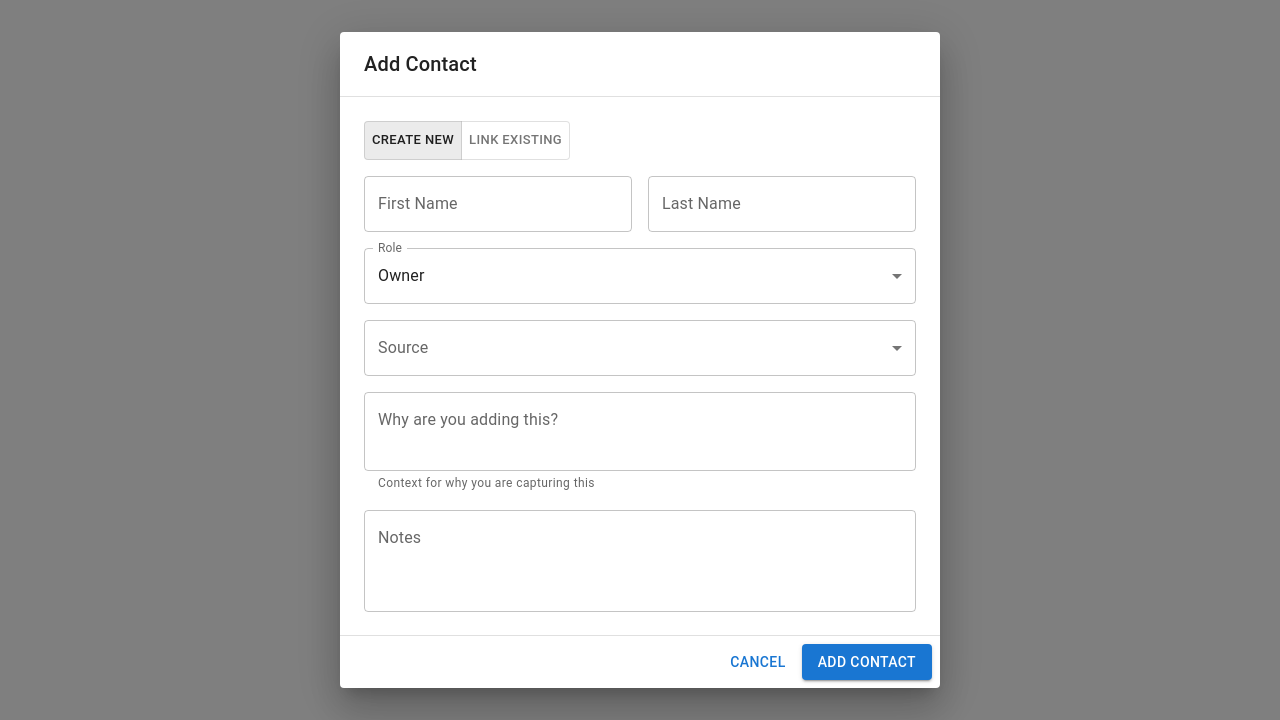
Test: ContactFormModal › API error handling › surfaces a createContact error via Snackbar Alert
Type "ErrorTest" into the field labelled "First Name" at (498, 204), box top-left (364, 176), bottom-right (632, 232)
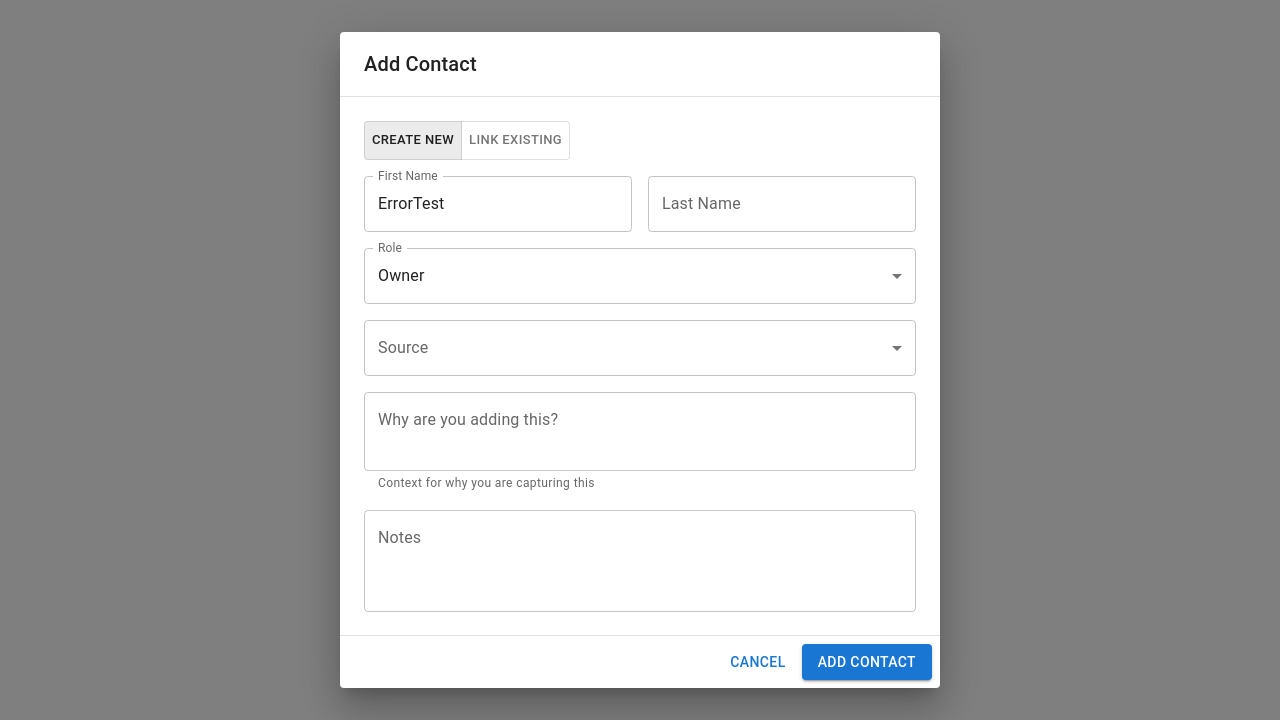
Click the button "Add Contact" at (867, 662), box top-left (802, 644), bottom-right (932, 680)
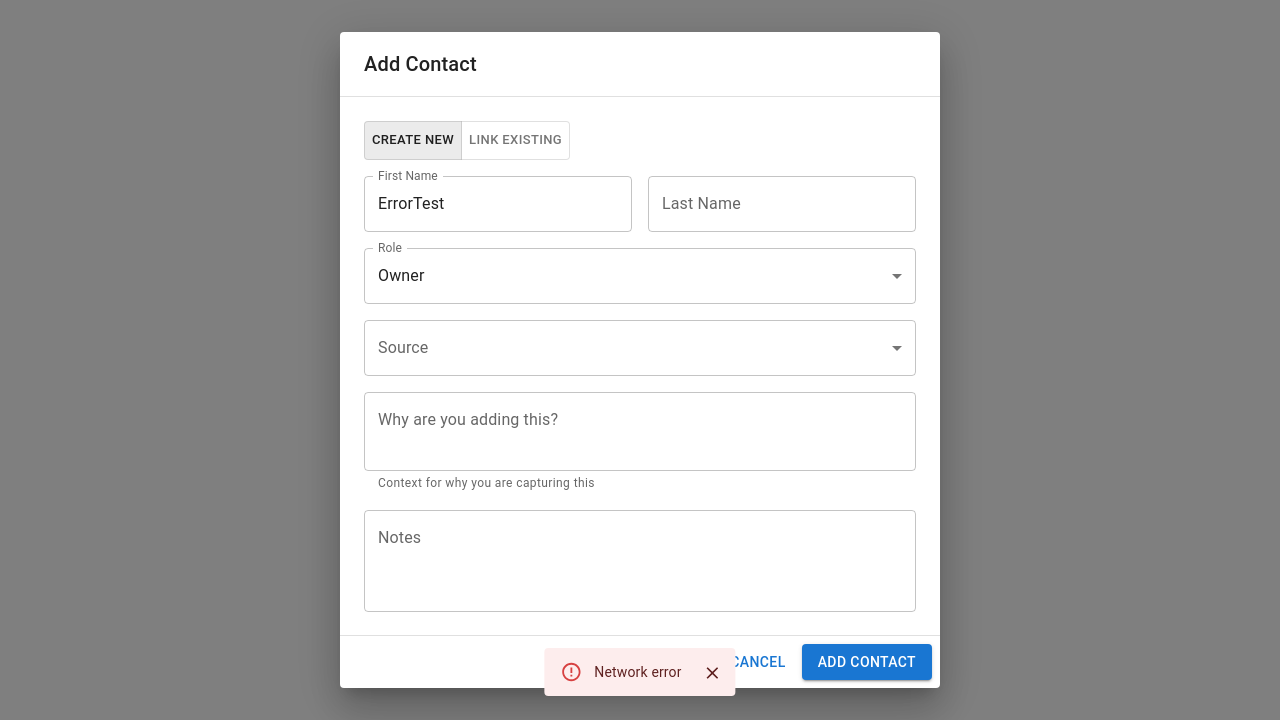
Expected: the message "Network error" is shown, top-left (544, 648), bottom-right (736, 696)
Expected: the text "Network error" is shown, top-left (594, 664), bottom-right (682, 680)
